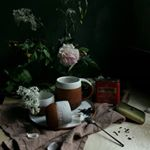cups: (54, 74, 95, 110)
